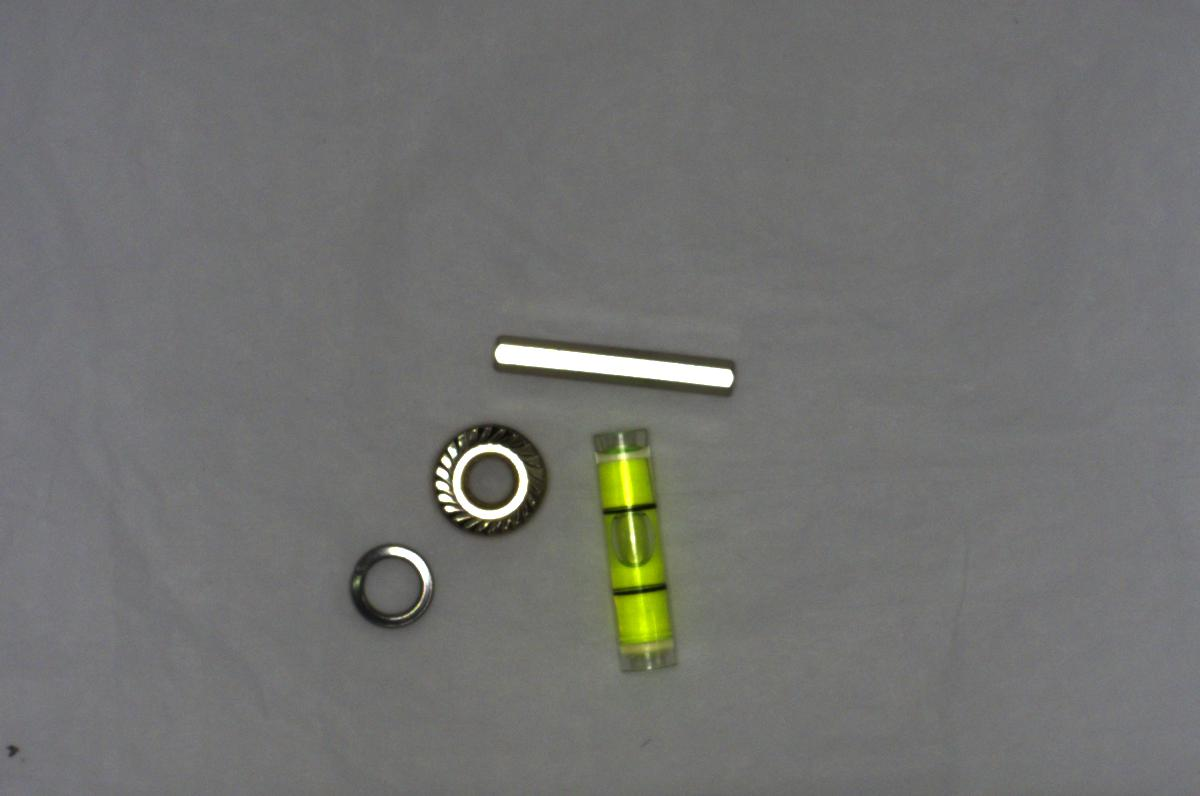Double hexagonal column: (484, 325, 745, 412)
Flange nut: (427, 418, 554, 541)
Horizontal bubble: (587, 418, 685, 687)
Spring washer: (335, 535, 431, 627)
